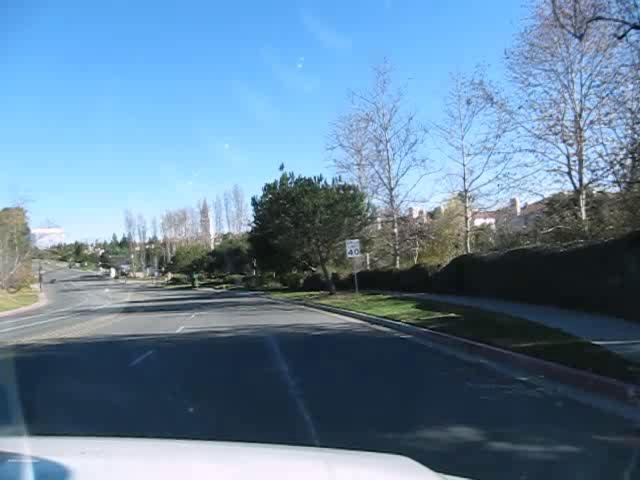speedLimit40: (344, 238, 361, 258)
